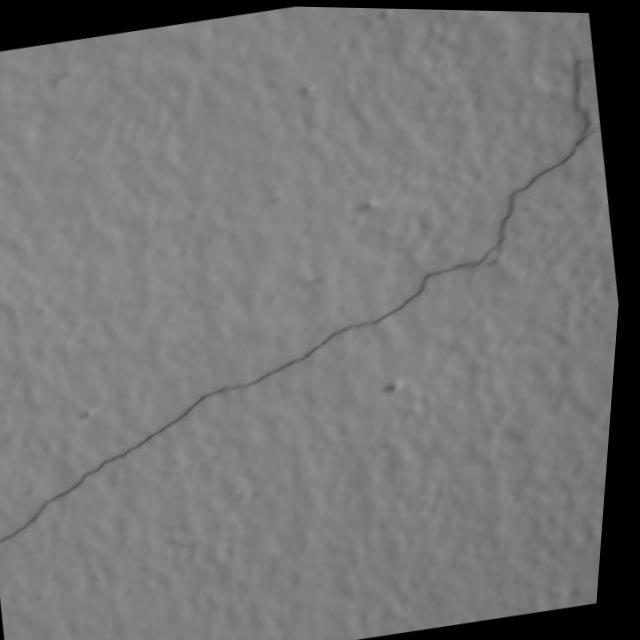Crack: (0, 48, 637, 598)
